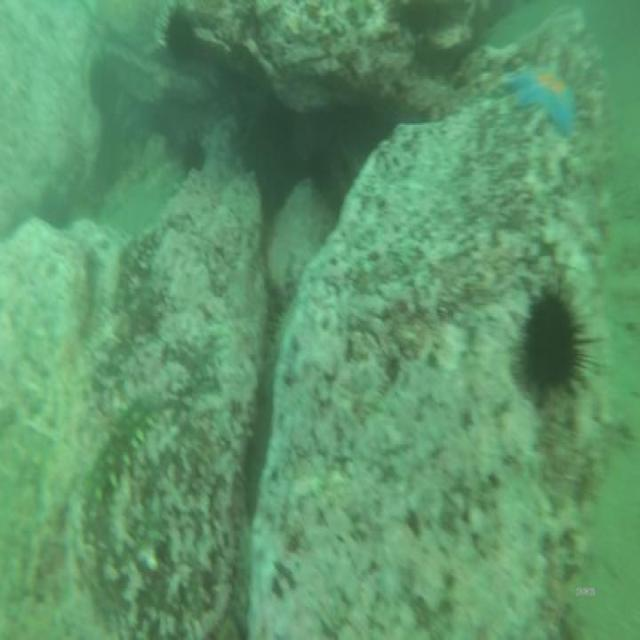echinus: (516, 276, 584, 408), (156, 1, 198, 70)
holothurian: (82, 388, 156, 524)
starfish: (499, 60, 582, 138)
